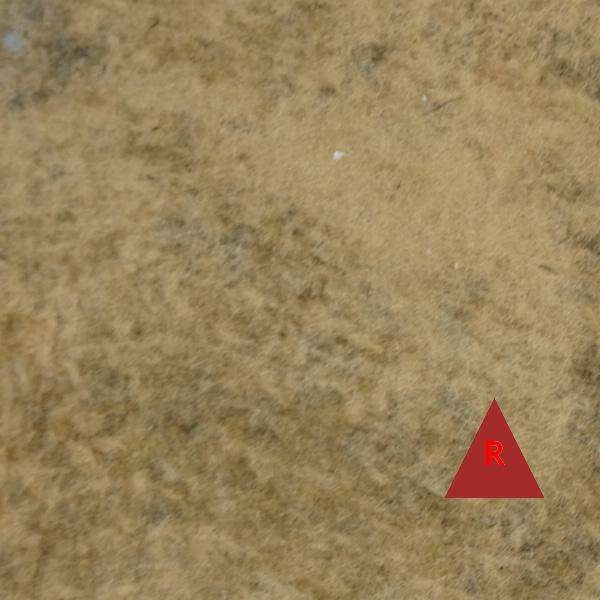Triangle: (444, 398, 544, 498)
